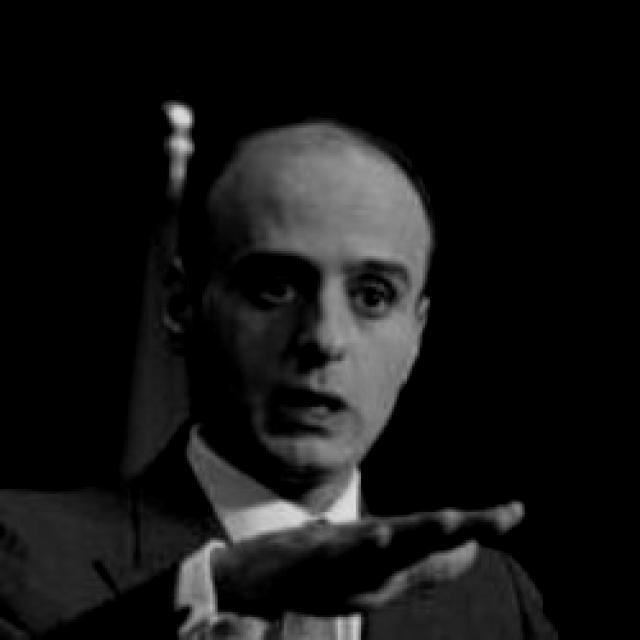real: (194, 131, 429, 476), (231, 249, 407, 320)
